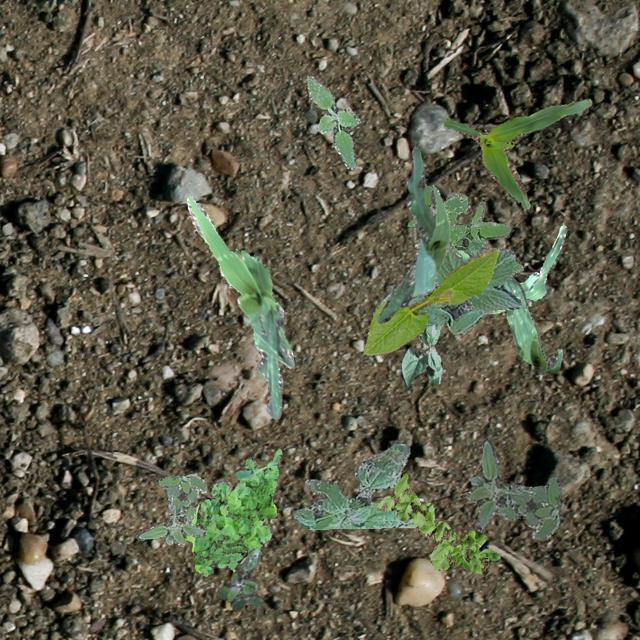crop: (185, 195, 294, 418), (442, 98, 590, 208), (362, 248, 498, 354), (372, 240, 520, 334), (376, 146, 448, 322), (456, 222, 566, 312), (502, 274, 562, 372), (399, 322, 442, 387)
weed: (184, 448, 280, 576), (376, 472, 498, 572), (407, 182, 522, 274), (292, 442, 414, 528), (464, 438, 560, 538), (136, 472, 206, 546), (306, 75, 360, 168), (216, 546, 262, 610)
